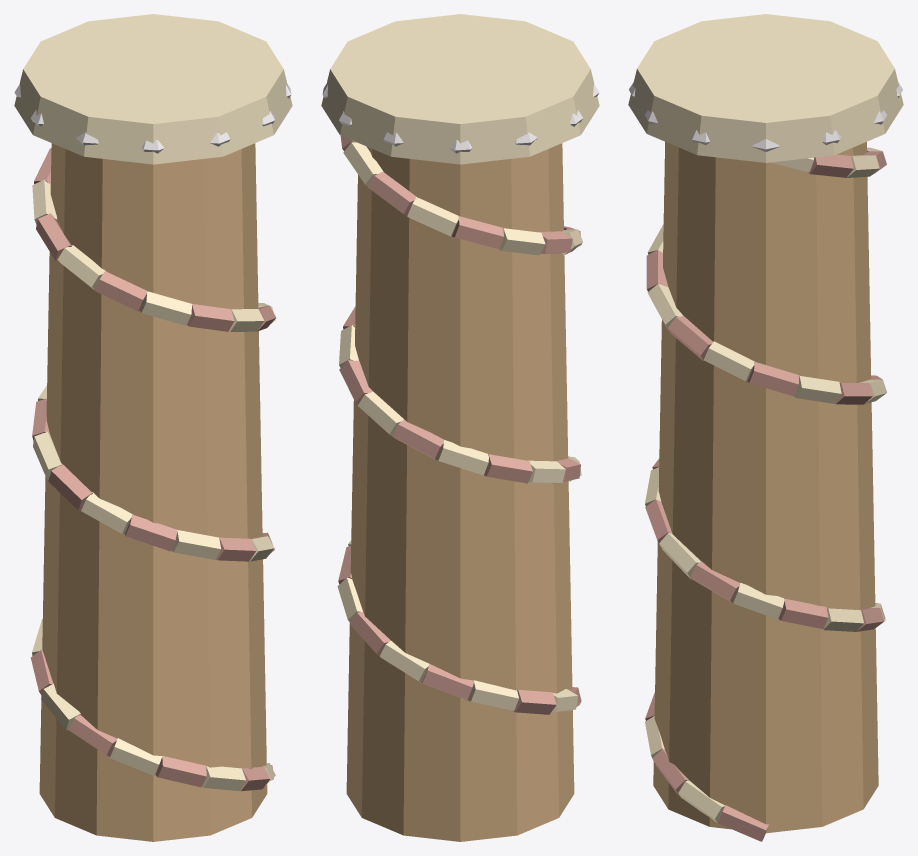
Rendered from columna_caramelo.glb.
The picture shows the model from 3 angles, left to right: view 1: azimuth 30°, elevation 25°; view 2: azimuth 150°, elevation 25°; view 3: azimuth 270°, elevation 25°; orthographic projection.
Visible parts, largest first — view 1: columna_caramelo; view 2: columna_caramelo; view 3: columna_caramelo.
Part boxes in pixels (x1,y1,x2,y2): columna_caramelo: (14,14,292,841); columna_caramelo: (321,14,599,841); columna_caramelo: (628,14,903,841).
Size of the model in its own units: 2.2 by 6.4 by 2.2.
